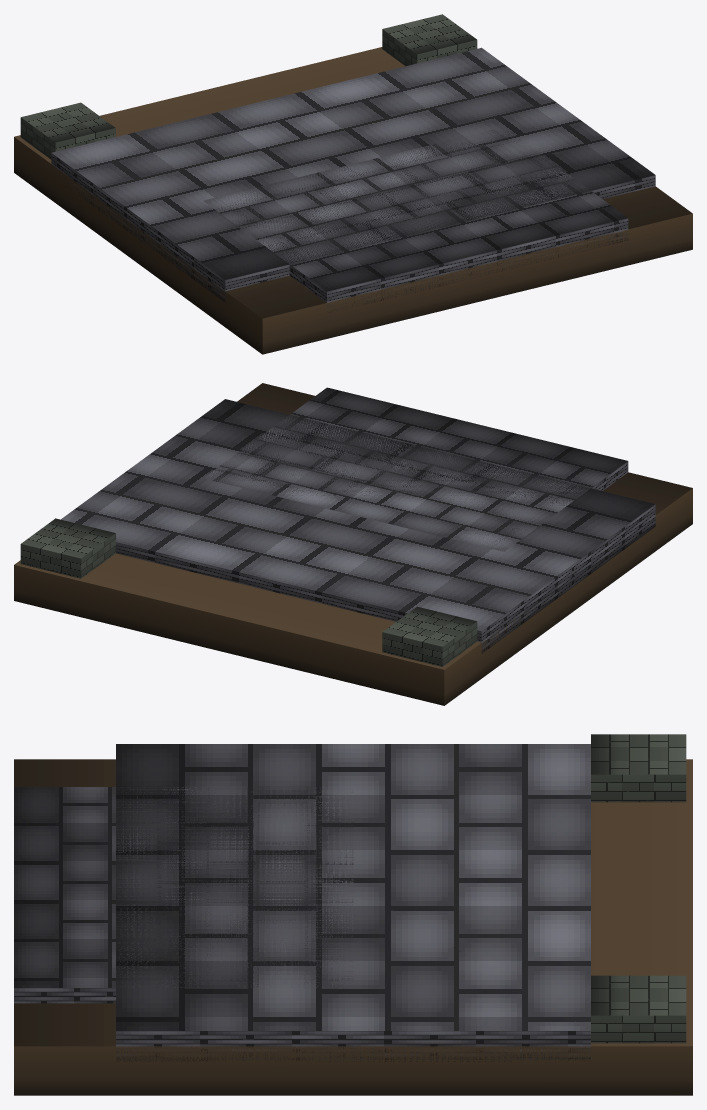
Rendered from road_tee.gltf.
3 renders of one model, top to bottom at view 1: azimuth 30°, elevation 25°; view 2: azimuth 150°, elevation 25°; view 3: azimuth 270°, elevation 25°, orthographic. The views are drawn at different scales.
Visible parts, largest first — view 1: road_tee; view 2: road_tee; view 3: road_tee.
Part boxes in pixels (bbox=[...]): road_tee: bbox=[14, 14, 692, 354]; road_tee: bbox=[14, 383, 692, 705]; road_tee: bbox=[14, 734, 692, 1095].
Size of the model in its own units: 1 by 0.125 by 1.
1 material, 1 textured.
